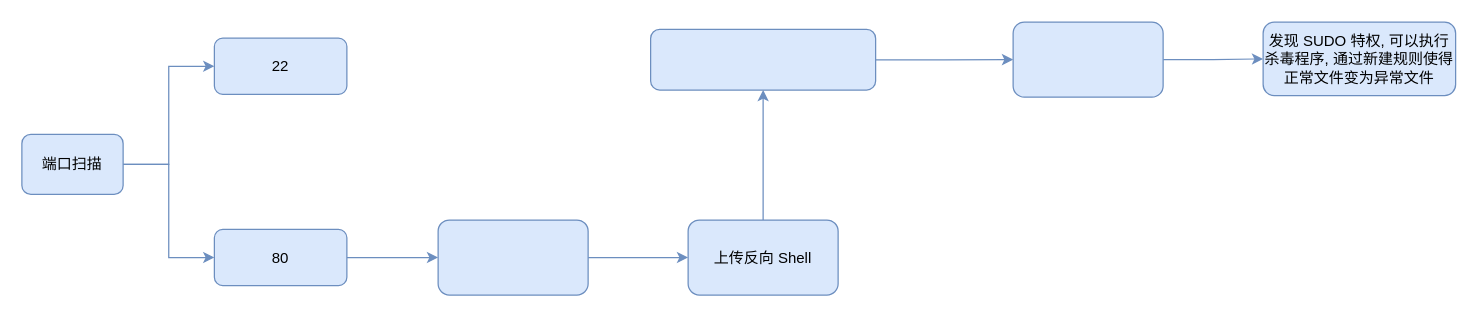
Image size: 1478x318. Some labels were removed from this diagram. Each missing label, with the centre of its shape:
"发现在登陆站点存在 SQLi, 直接绕过登陆" goes at point 512,257.
"发现密码重用问题, 切换到 cyrus 用户" goes at point 1087,59.
"获取到用户 www-data 的 Shell" goes at point 762,59.
